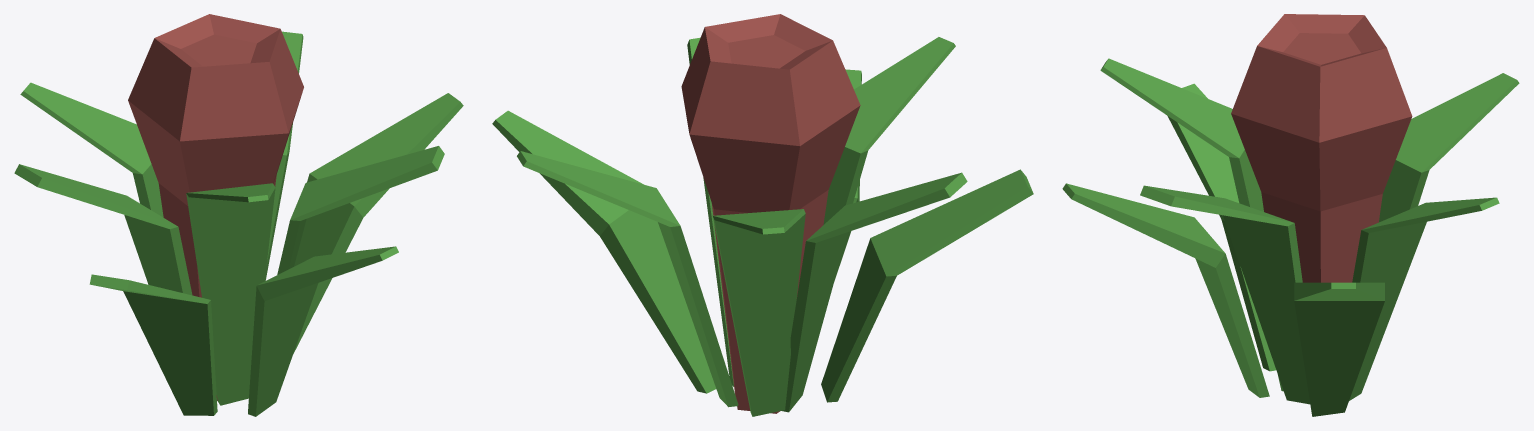
Rendered from plants_c.gltf.
The picture shows the model from 3 angles, left to right: view 1: azimuth 30°, elevation 25°; view 2: azimuth 150°, elevation 25°; view 3: azimuth 270°, elevation 25°; orthographic projection. The views are drawn at different scales.
Visible parts, largest first — view 1: plants_c001; view 2: plants_c001; view 3: plants_c001.
Boxes of the visible parts, x1,y1,x2,y2 form: plants_c001: [14, 14, 463, 416]; plants_c001: [492, 14, 1033, 416]; plants_c001: [1062, 14, 1519, 416].
Bounding box in the file's own units: 0.5556 × 0.4162 × 0.4893.
1 material, 1 textured.
